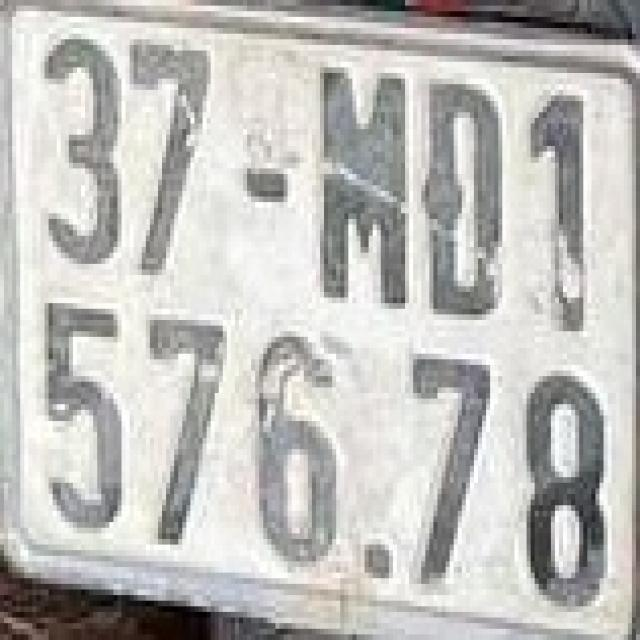1: (518, 84, 600, 331)
3: (32, 28, 126, 270)
5: (32, 292, 130, 534)
6: (247, 326, 344, 568)
7: (396, 342, 498, 590), (125, 34, 218, 276), (142, 309, 231, 550)
8: (518, 359, 616, 612)
D: (418, 73, 510, 326)
M: (314, 53, 411, 306)
